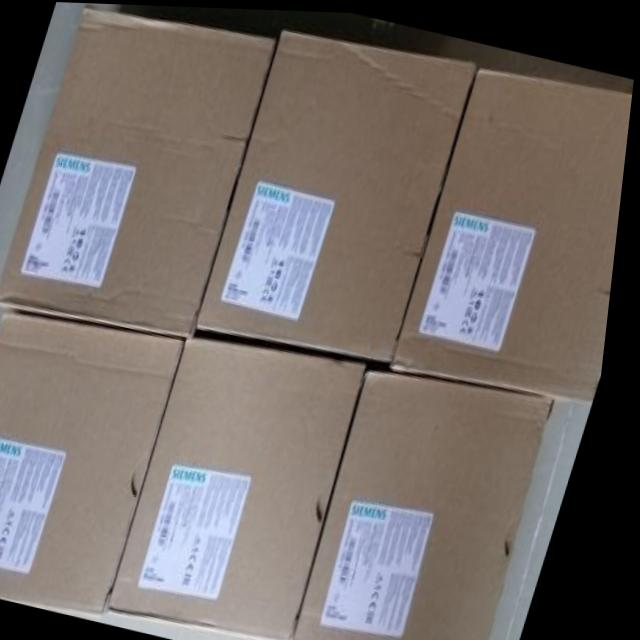box: (202, 26, 480, 362), (0, 3, 276, 339), (118, 331, 377, 638), (398, 64, 634, 399), (304, 360, 565, 640), (0, 305, 193, 611)
